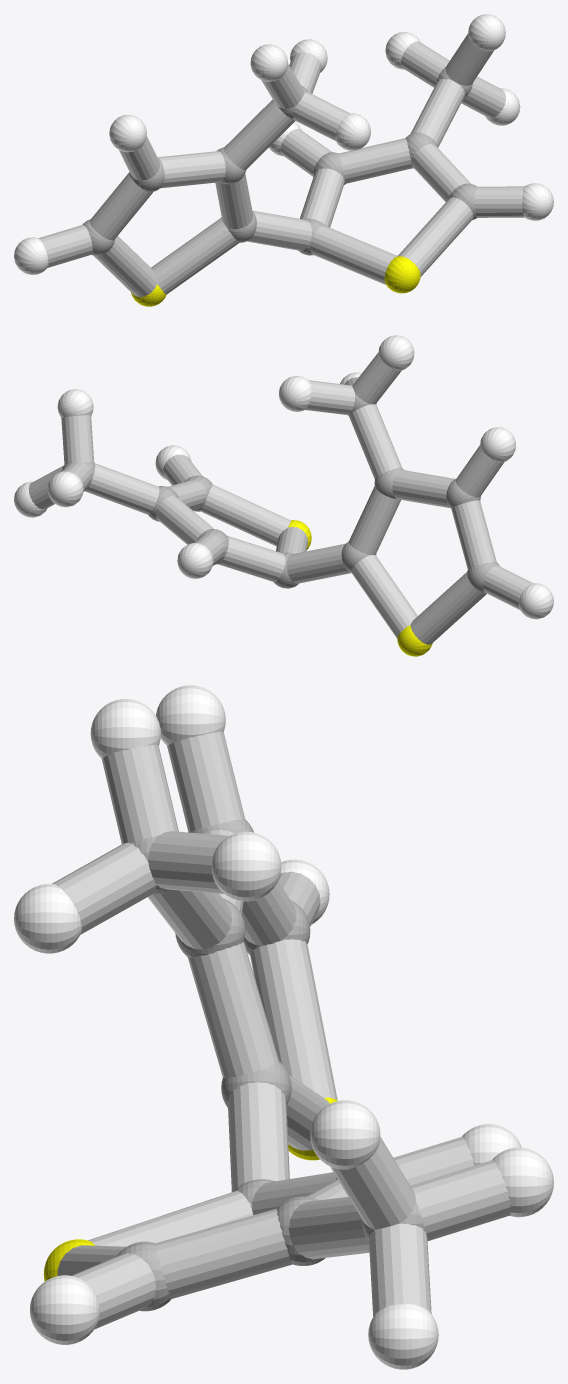
The model's file is Methylthiophene_Phi_40_Theta_90_Methylthiophene.glb.
3 renders of one model, top to bottom at view 1: azimuth 30°, elevation 25°; view 2: azimuth 150°, elevation 25°; view 3: azimuth 270°, elevation 25°, orthographic. The views are drawn at different scales.
Parts seen in each view (by area): view 1: grp7965, grp3621, grp1, grp7241; view 2: grp7965, grp3621, grp1, grp7241; view 3: grp7965, grp3621, grp1, grp7241.
Part boxes in pixels (x1=…): grp7965: x1=38, y1=33, x2=524, y2=297; grp3621: x1=14, y1=14, x2=553, y2=274; grp1: x1=82, y1=66, x2=476, y2=255; grp7241: x1=131, y1=256, x2=420, y2=306; grp7965: x1=28, y1=352, x2=533, y2=644; grp3621: x1=14, y1=335, x2=553, y2=619; grp1: x1=62, y1=384, x2=500, y2=593; grp7241: x1=288, y1=520, x2=432, y2=656; grp7965: x1=52, y1=731, x2=510, y2=1329; grp3621: x1=14, y1=685, x2=553, y2=1369; grp1: x1=116, y1=819, x2=424, y2=1311; grp7241: x1=43, y1=1097, x2=337, y2=1281.
Bounding box in the file's own units: 9.73 × 4.88 × 4.61.
